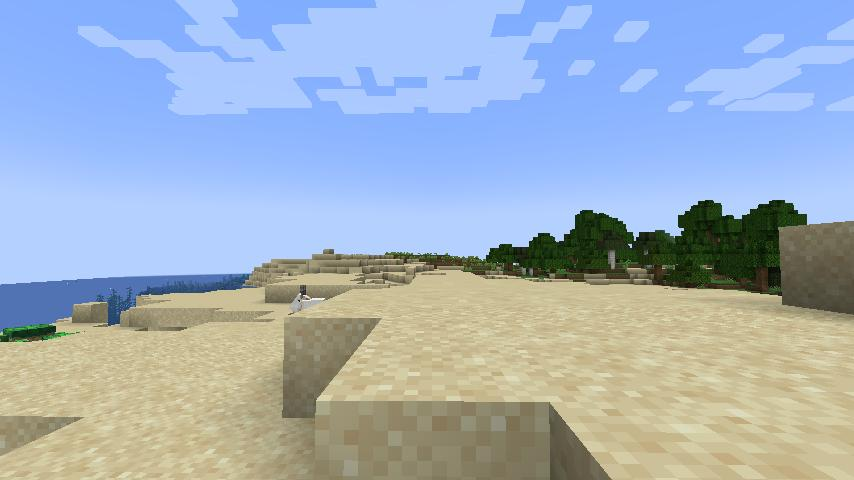goat: (289, 283, 325, 313)
turtle: (0, 322, 69, 343)
